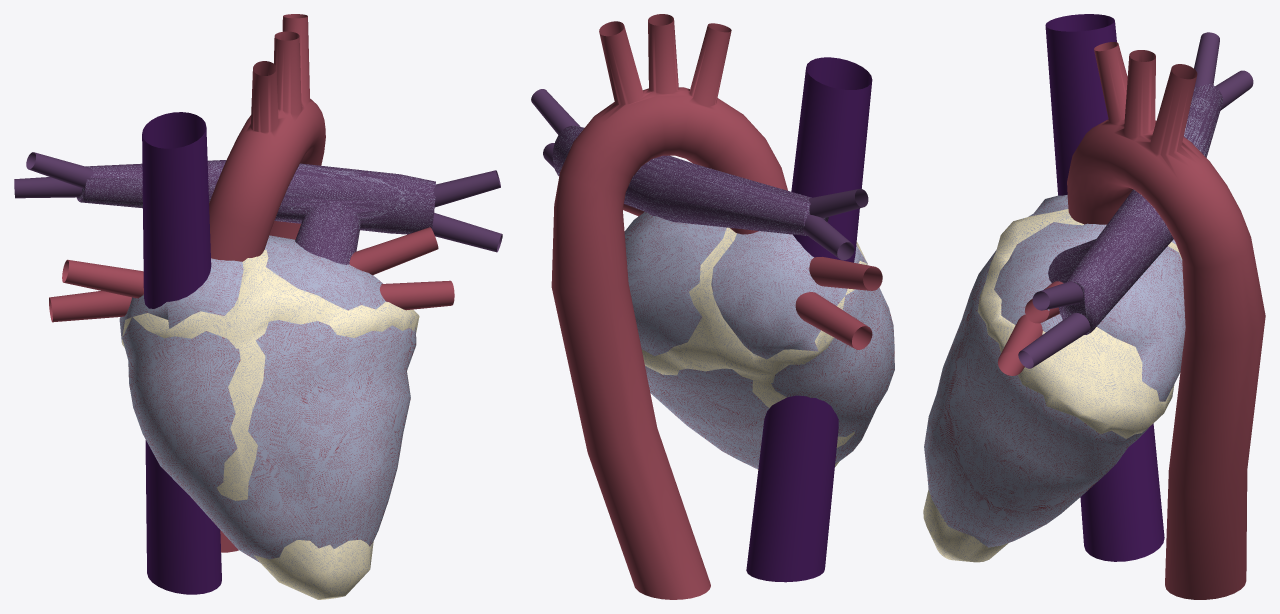
Rendered from heart.fbx.
3 renders of one model, left to right at view 1: azimuth 30°, elevation 25°; view 2: azimuth 150°, elevation 25°; view 3: azimuth 270°, elevation 25°, orthographic. The views are drawn at different scales.
Visible parts, largest first — view 1: Group5, Group1, Group6, Group8, Group11, Group12, Group9, Group4, Group3, Group14, Group15; view 2: Group1, Group5, Group6, Group12, Group11, Group15, Group14, Group3; view 3: Group1, Group5, Group6, Group4, Group9, Group14, Group3, Group15, Group8.
Boxes of the visible parts, x1,y1,x2,y2 form: Group5: [119, 235, 419, 599]; Group1: [76, 14, 435, 552]; Group6: [142, 112, 221, 594]; Group8: [349, 227, 438, 275]; Group11: [62, 259, 143, 298]; Group12: [49, 291, 131, 322]; Group9: [380, 280, 454, 310]; Group4: [432, 212, 502, 252]; Group3: [433, 170, 500, 207]; Group14: [26, 152, 93, 188]; Group15: [14, 177, 82, 198]; Group1: [551, 14, 828, 599]; Group5: [624, 212, 894, 469]; Group6: [746, 57, 872, 582]; Group12: [795, 292, 872, 349]; Group11: [809, 257, 882, 290]; Group15: [803, 214, 854, 260]; Group14: [808, 188, 868, 218]; Group3: [531, 89, 580, 134]; Group1: [1048, 42, 1265, 599]; Group5: [923, 195, 1185, 562]; Group6: [1045, 14, 1164, 561]; Group4: [1018, 313, 1090, 368]; Group9: [997, 314, 1042, 375]; Group14: [1194, 32, 1219, 86]; Group3: [1032, 281, 1083, 310]; Group15: [1215, 70, 1253, 110]; Group8: [1025, 281, 1063, 323].
Size of the model in its own units: 4.16 by 5.14 by 2.89.
